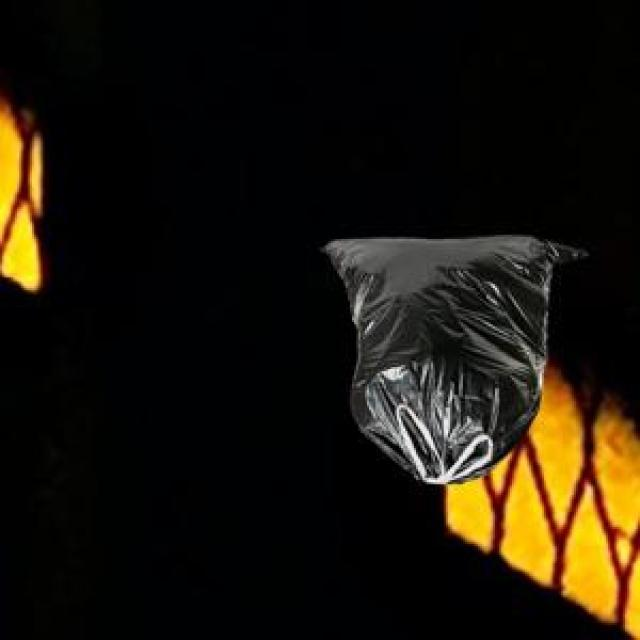waste: (325, 235, 582, 484)
